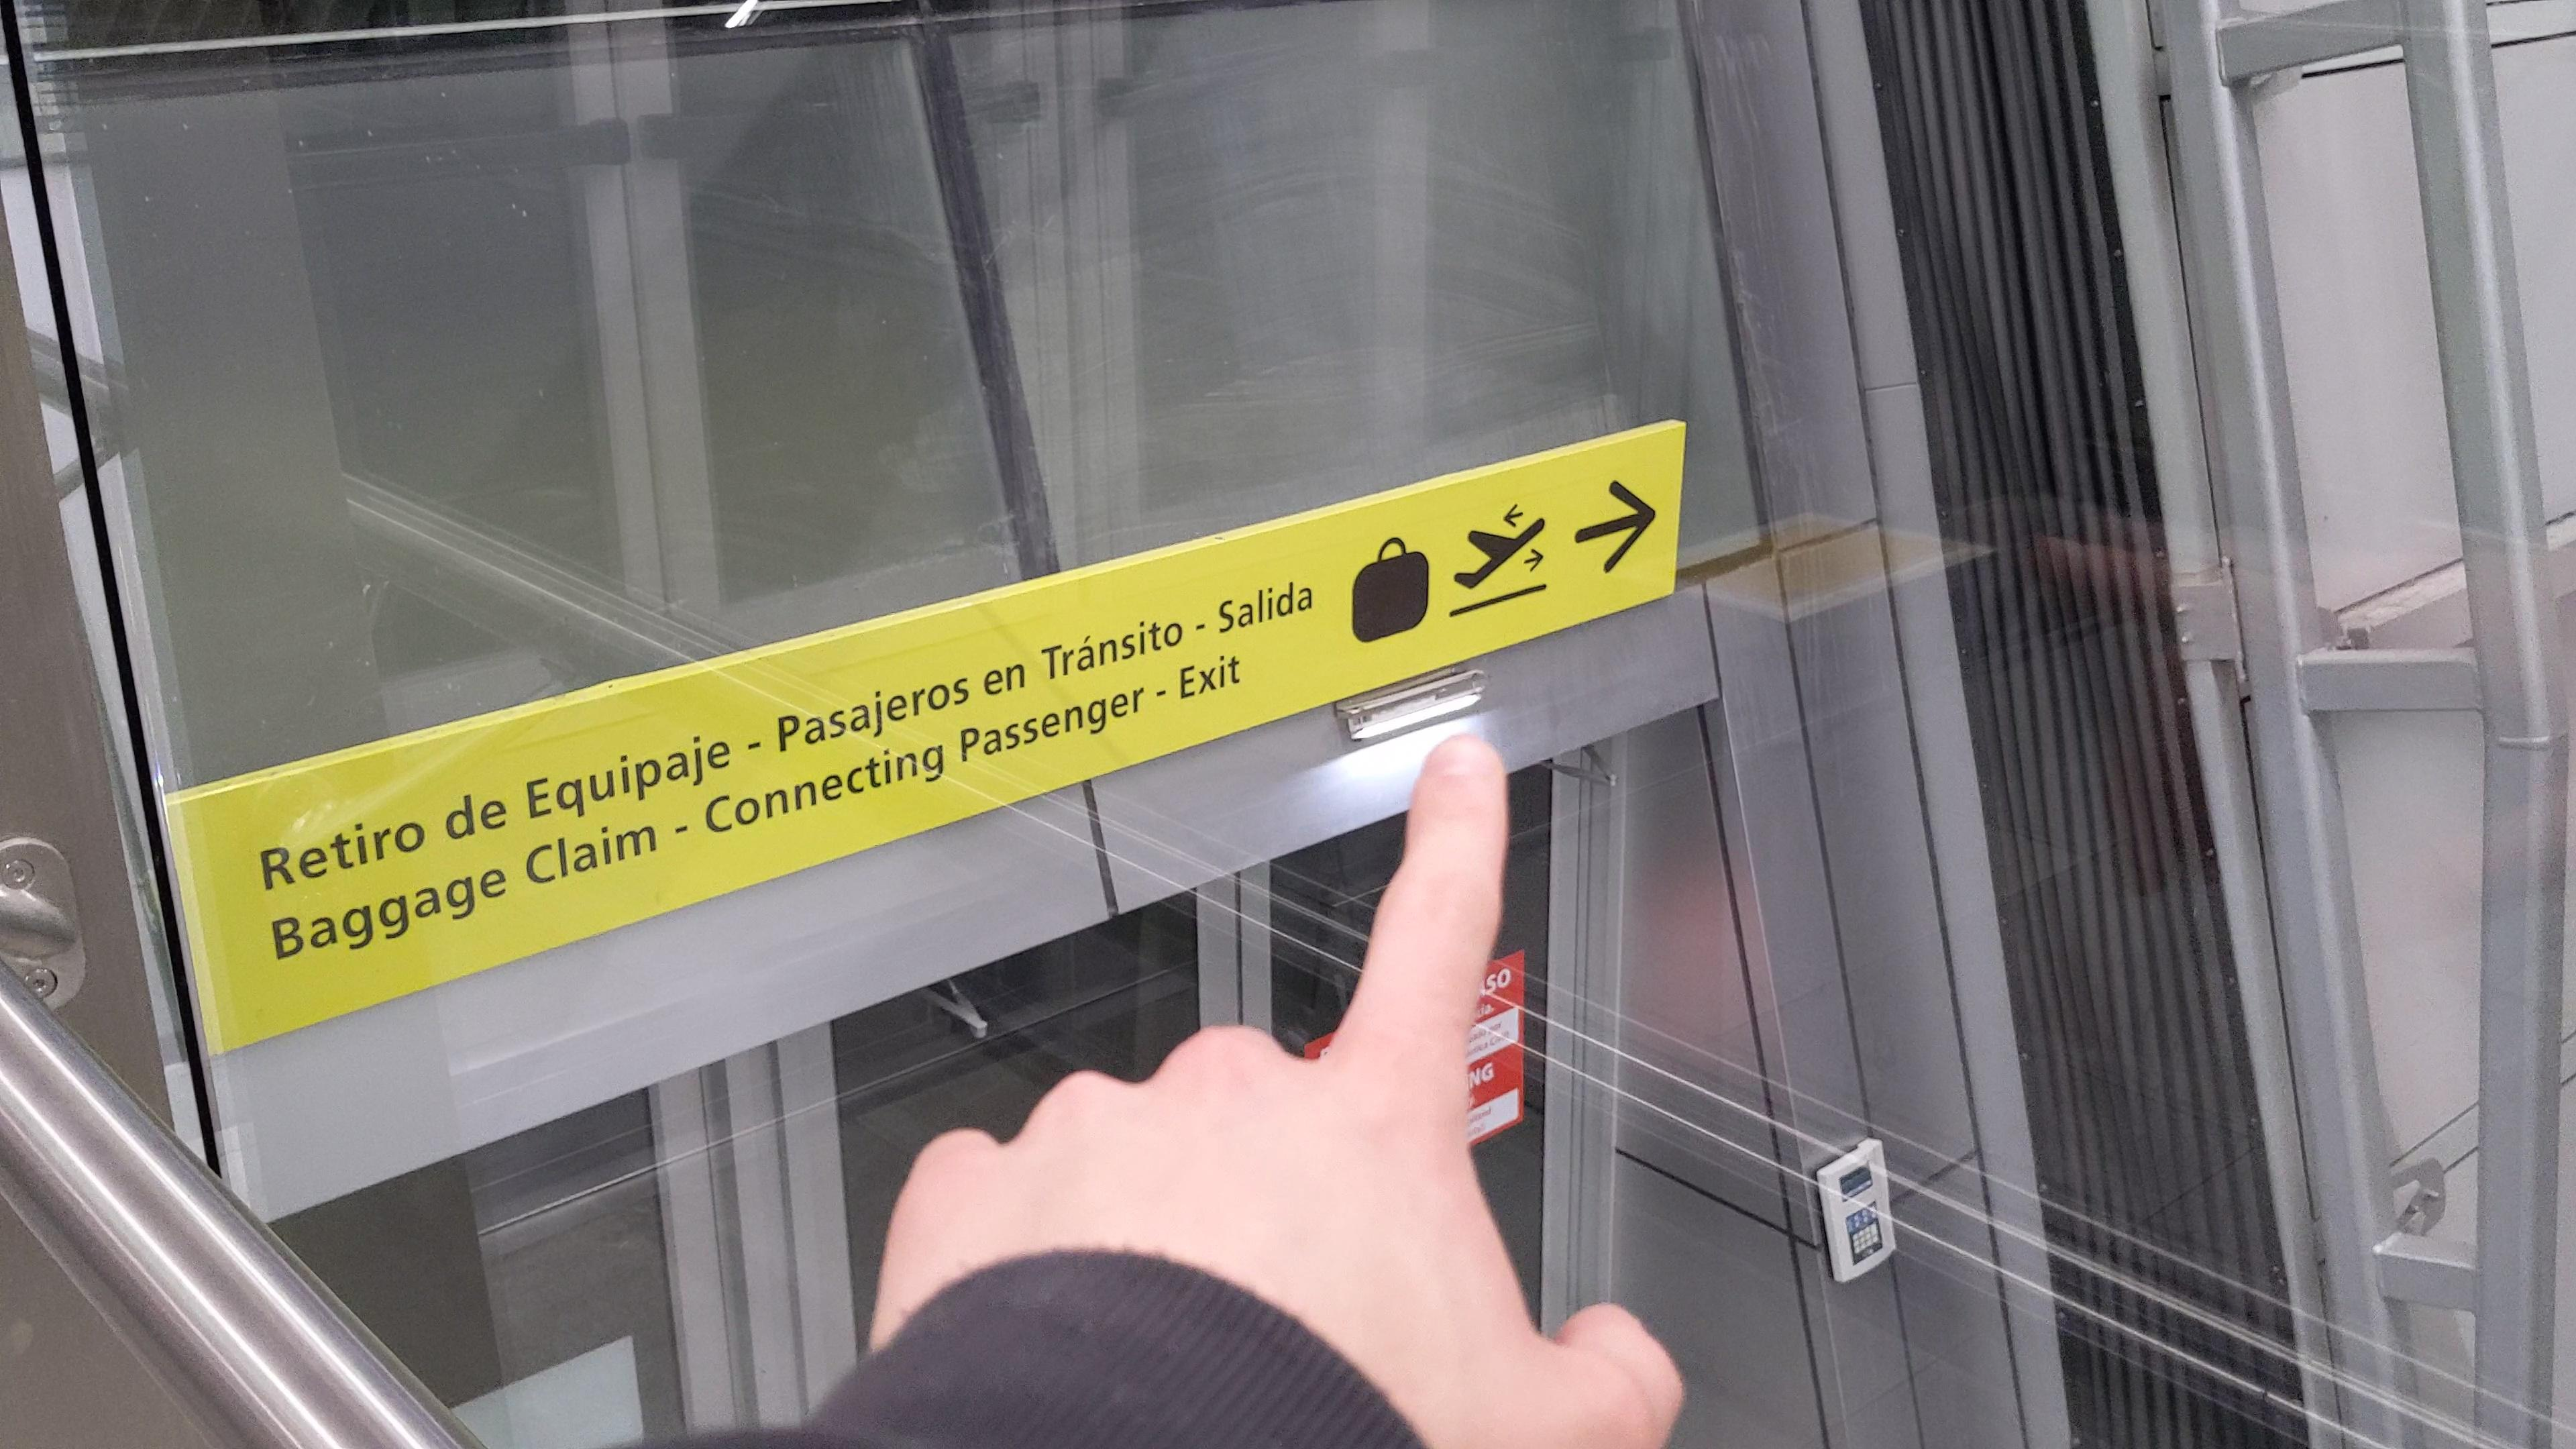airplane symbol: (1449, 506, 1546, 600)
baggage claim: (1346, 534, 1433, 649)
thin right arrow: (1566, 476, 1661, 579)
